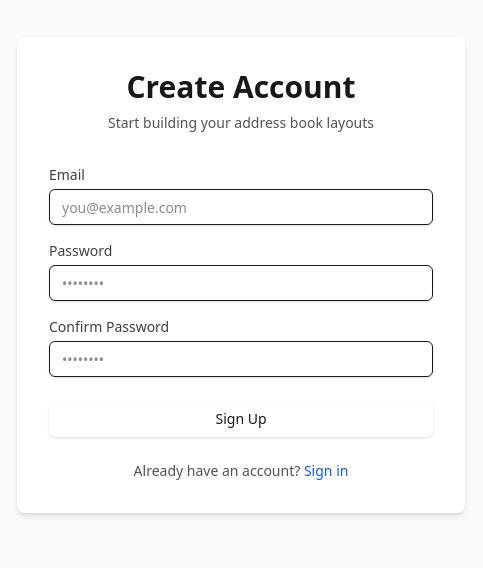
SignupPage › should display error when password is too short
Type "test@example.com" into the field labelled "Email" at x=241, y=207, box [49, 189, 433, 225]
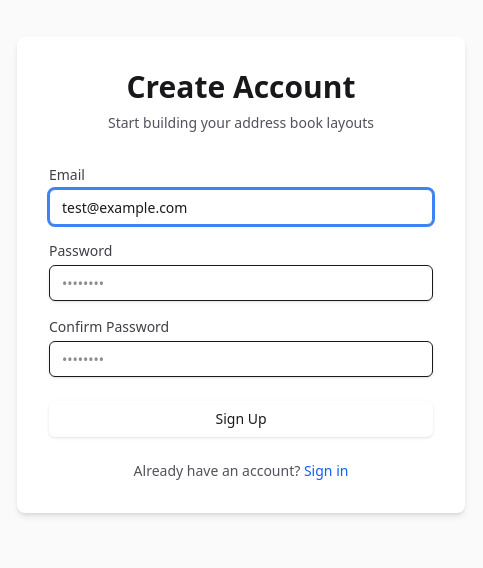
Type "short" into the password field labelled "Password" at x=241, y=283, box [49, 265, 433, 301]
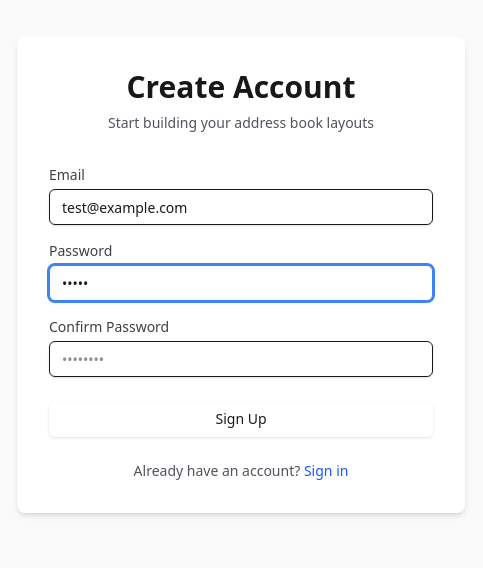
Type "short" into the password field labelled "Confirm Password" at x=241, y=359, box [49, 341, 433, 377]
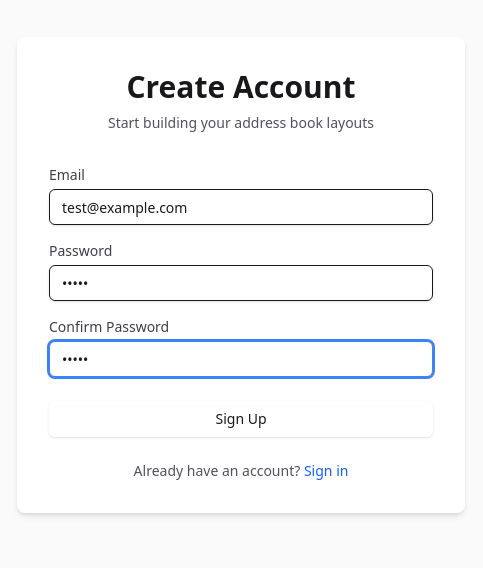
Click the button with aria-label "create your account" at x=241, y=419, box [49, 401, 433, 437]
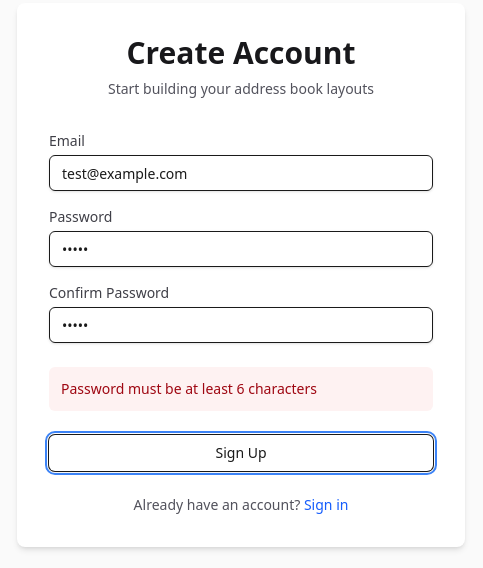
Check: the text "Password must be at least 6 characters" is shown, box [49, 367, 433, 411]
